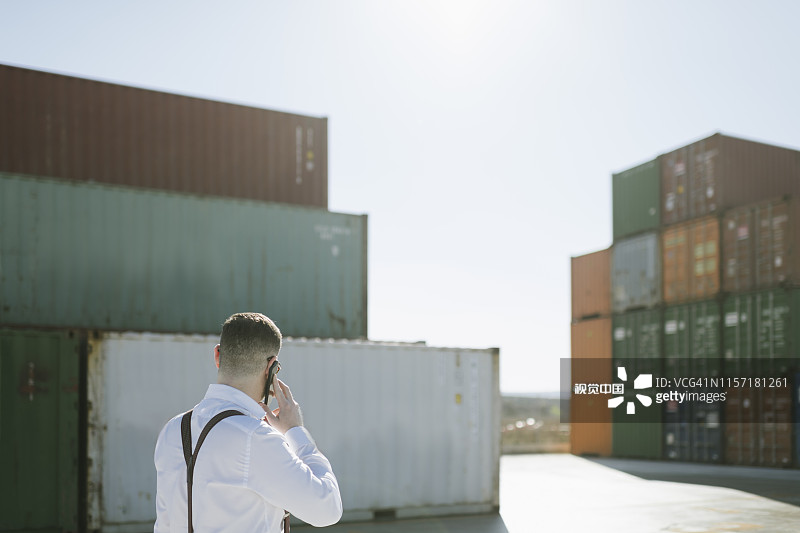calling: (249, 357, 321, 439)
